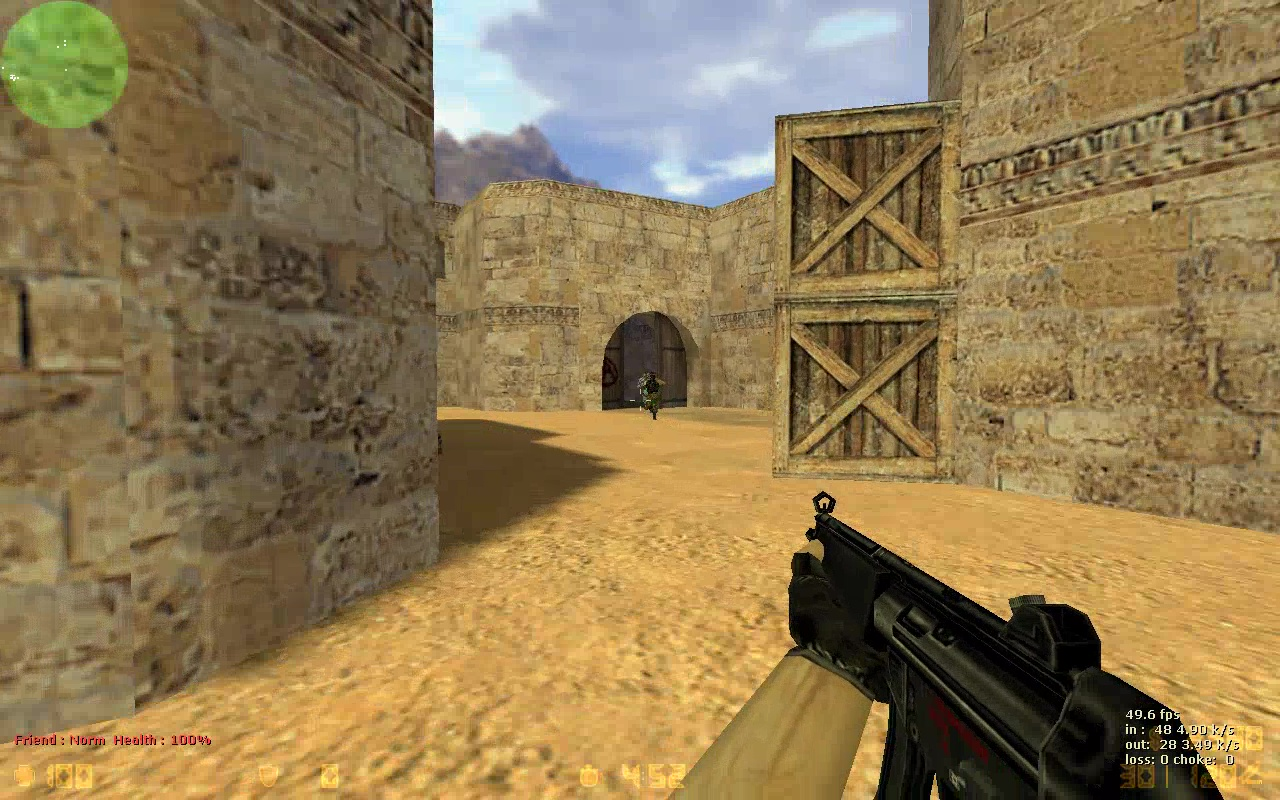terr1: (649, 372, 662, 415)
terr2: (641, 375, 651, 407)
